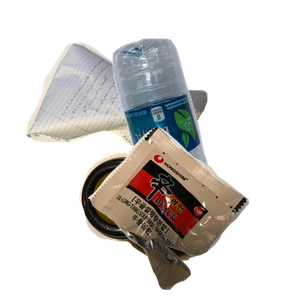glass: (77, 147, 295, 300)
paper: (23, 40, 223, 180)
plastic: (110, 36, 300, 216)
trash: (86, 124, 300, 300)
